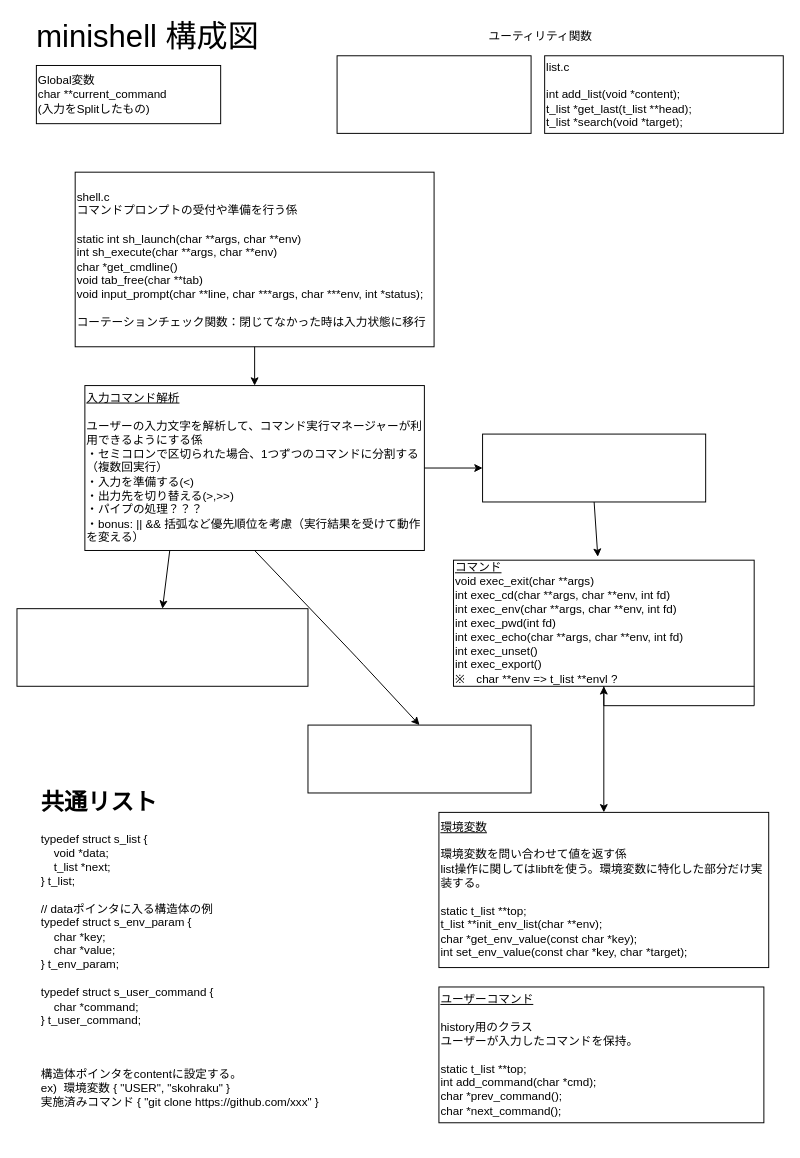
This 800x1158 diagram has some shape labels left out. Here are the shapes that lost their labels. From the top down, the box of each, then its label:
(336, 55, 531, 133): string.c void ft_putendl_fd(char *s, int fd) char *ft_join(char *s, char c)
(482, 433, 706, 502): コマンド実行マネージャ 今のsh_executeの役割。 1コマンドを実行する係
(16, 608, 308, 686): Input コマンド実行前に引数の入力を制御する。 通常は、コマンド引数を採用する <の時は、ファイルなどを開いて文字列に格納し直す。
(307, 724, 531, 793): Output 指定した場所に出力する 通常は標準出力、>,>>の時はファイル
